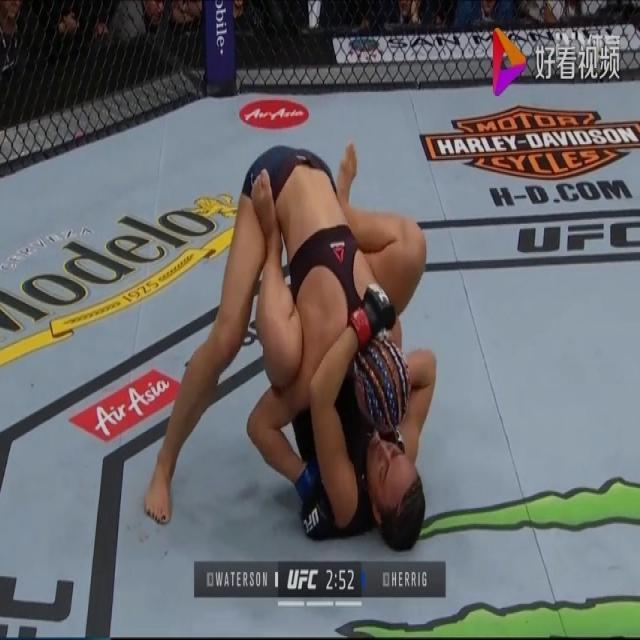fight: (142, 136, 442, 552)
